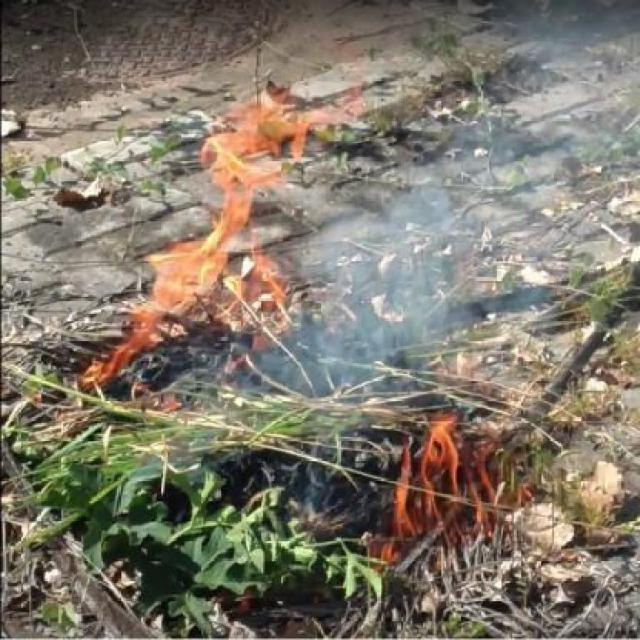Fire: (79, 88, 325, 395), (370, 412, 518, 545)
